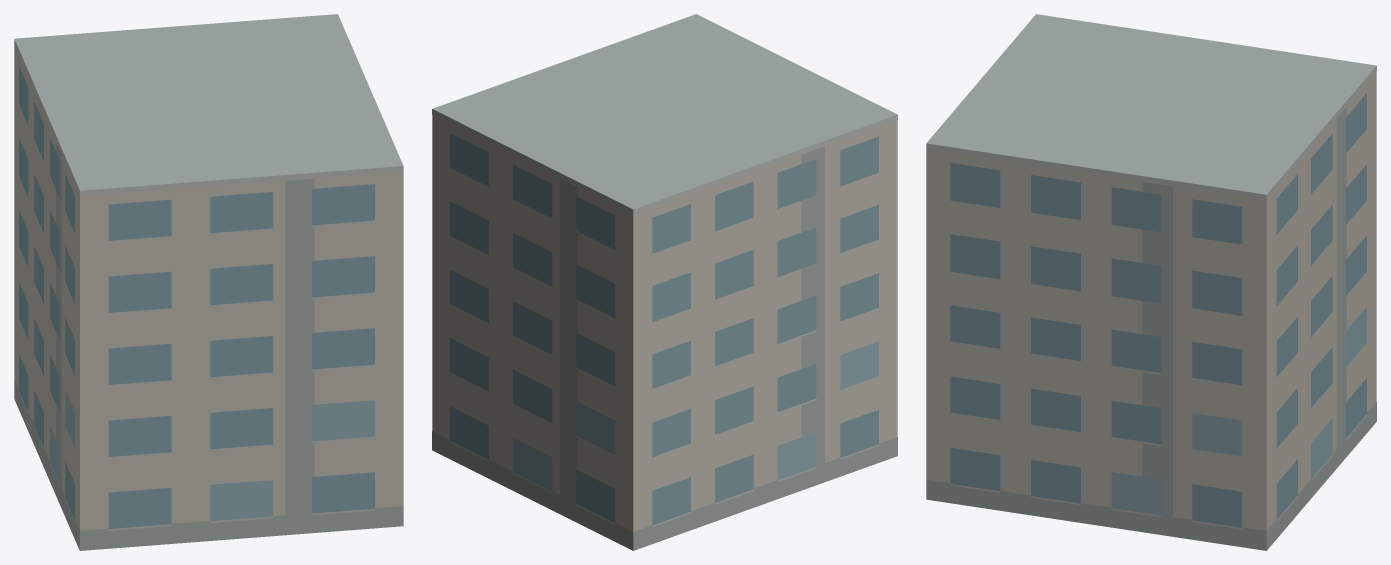
File: survey-upis-32986138.glb
3 renders of one model, left to right at view 1: azimuth 30°, elevation 25°; view 2: azimuth 150°, elevation 25°; view 3: azimuth 270°, elevation 25°, orthographic. The views are drawn at different scales.
Parts seen in each view (by area): view 1: survey-upis-32986138.tmp; view 2: survey-upis-32986138.tmp; view 3: survey-upis-32986138.tmp.
Boxes of the visible parts, x1=… form: survey-upis-32986138.tmp: x1=14, y1=14, x2=403, y2=550; survey-upis-32986138.tmp: x1=432, y1=14, x2=897, y2=550; survey-upis-32986138.tmp: x1=926, y1=14, x2=1376, y2=550.
Size of the model in its own units: 15.9 by 14.6 by 16.75.
